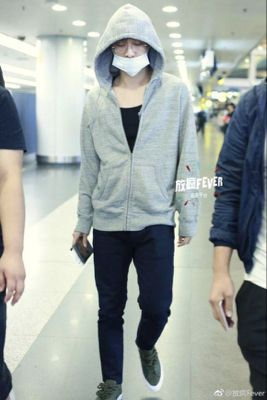no-mask: (109, 21, 155, 78)
